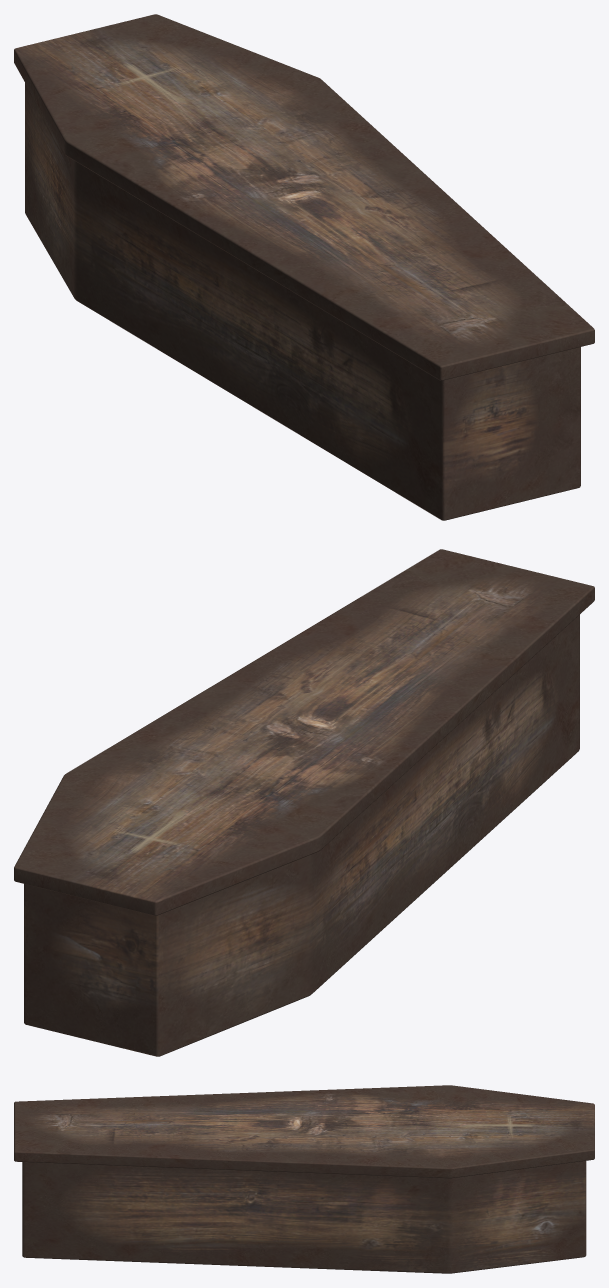
3 renders of one model, top to bottom at view 1: azimuth 30°, elevation 25°; view 2: azimuth 150°, elevation 25°; view 3: azimuth 270°, elevation 25°, orthographic. The views are drawn at different scales.
Visible parts, largest first — view 1: coffinlid_low_Material #78_0, coffinbase_low_Material #78_0; view 2: coffinlid_low_Material #78_0, coffinbase_low_Material #78_0; view 3: coffinbase_low_Material #78_0, coffinlid_low_Material #78_0.
Part boxes in pixels (x1=…): coffinlid_low_Material #78_0: x1=14, y1=14, x2=594, y2=380; coffinbase_low_Material #78_0: x1=25, y1=83, x2=580, y2=520; coffinlid_low_Material #78_0: x1=14, y1=549, x2=594, y2=915; coffinbase_low_Material #78_0: x1=24, y1=614, x2=579, y2=1056; coffinbase_low_Material #78_0: x1=22, y1=1161, x2=586, y2=1273; coffinlid_low_Material #78_0: x1=14, y1=1085, x2=594, y2=1178.
Size of the model in its own units: 0.4462 by 0.2715 by 1.31.
Materials: 1 (1 with a texture image).
